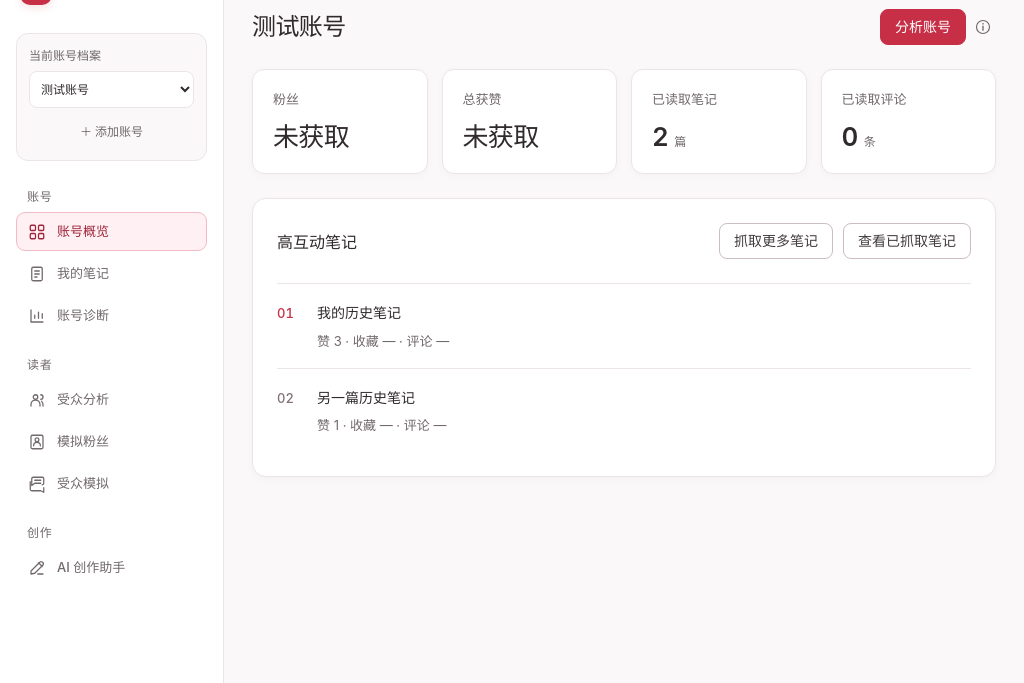
brings a selected reader opinion into the corresponding canvas without a model request
Expected: the text "我的历史笔记" is shown, 317,304 -> 401,321
Click the button "受众模拟" at (112, 484), box 16,464 -> 207,503
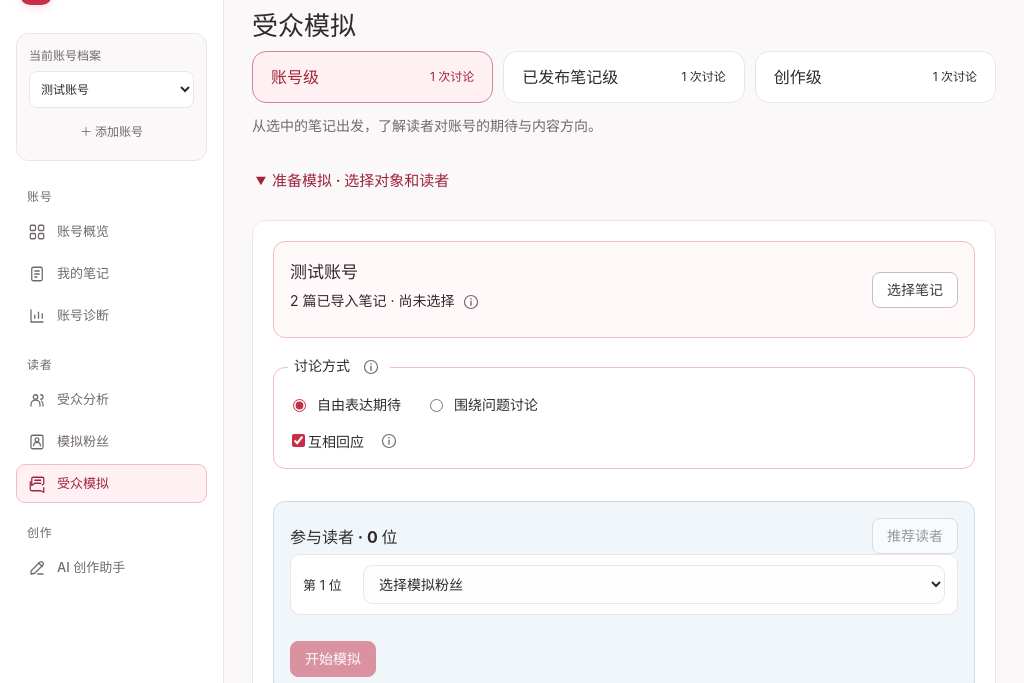
Click the tab "创作级 1 次讨论" at (875, 77), box 755,51 -> 996,103
(page scrolled)
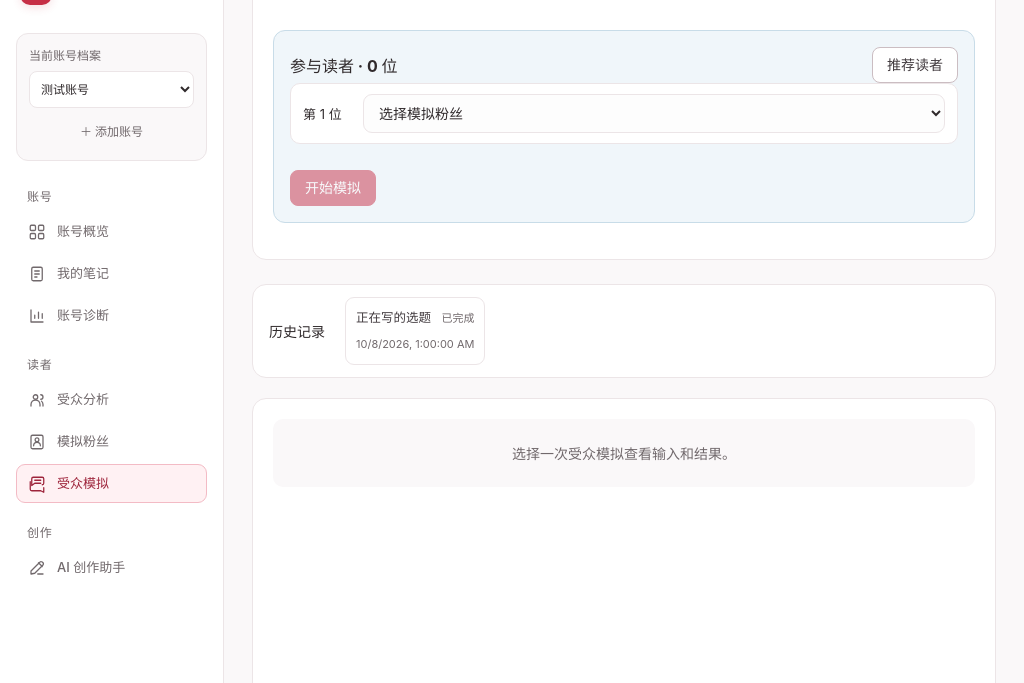
Click the button "正在写的选题 已完成 10/8/2026, 1:00:00 AM" at (415, 331), box 345,297 -> 485,365
(page scrolled)
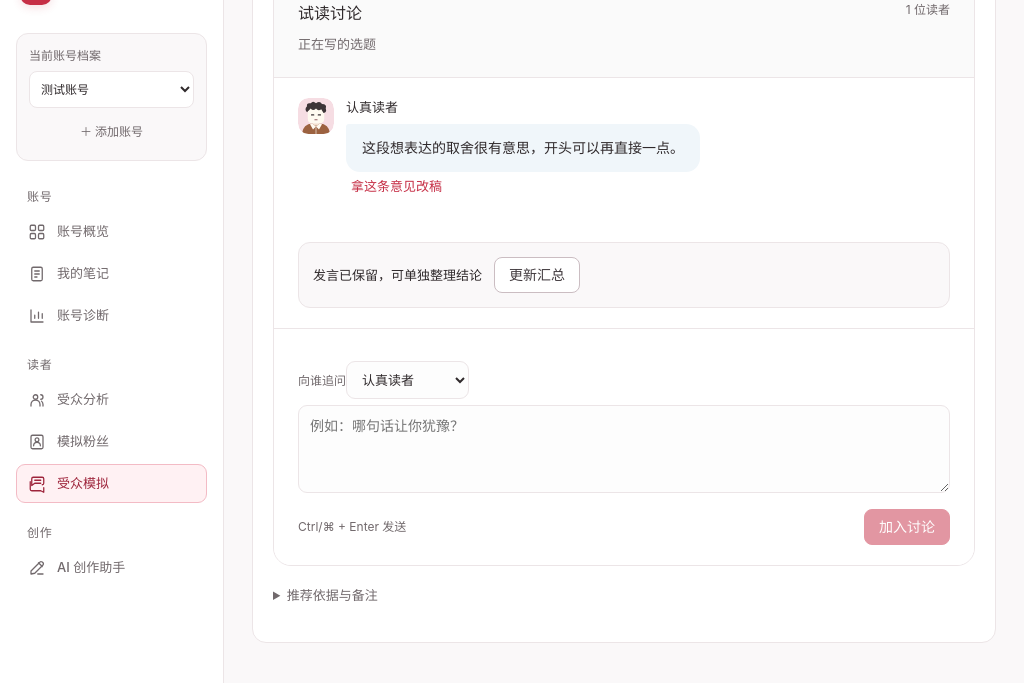
Click the button "拿这条意见改稿" at (396, 186), box 346,172 -> 447,200
(page scrolled)
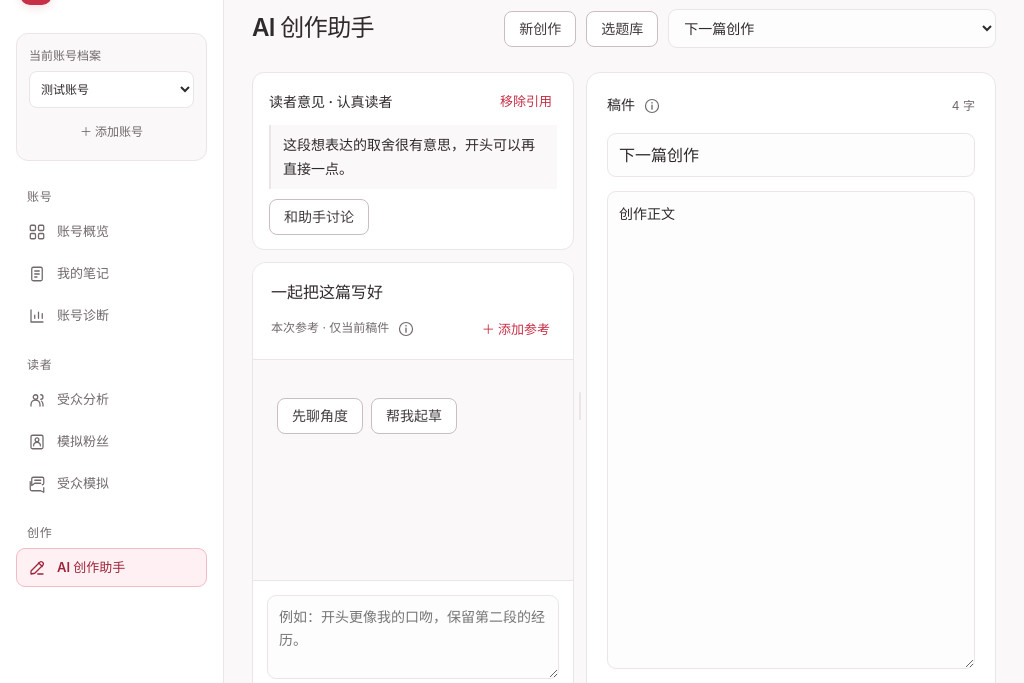
Expected: the heading "AI 创作助手" is shown, 252,12 -> 374,45
Expected: the field named "创作标题" holds "下一篇创作", 607,133 -> 975,177
Expected: the text box named "创作正文" holds "创作正文", 607,191 -> 975,669
